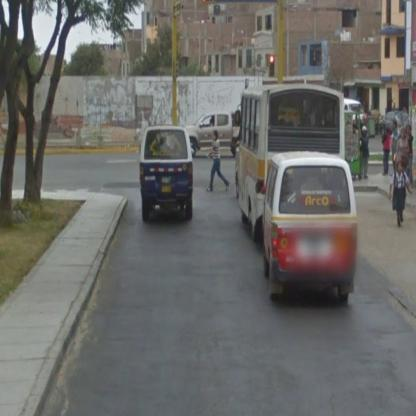Peaton: (207, 131, 230, 192)
Pista: (57, 171, 416, 379)
Vehiculo: (236, 85, 349, 243), (257, 151, 358, 306), (140, 126, 194, 221)
